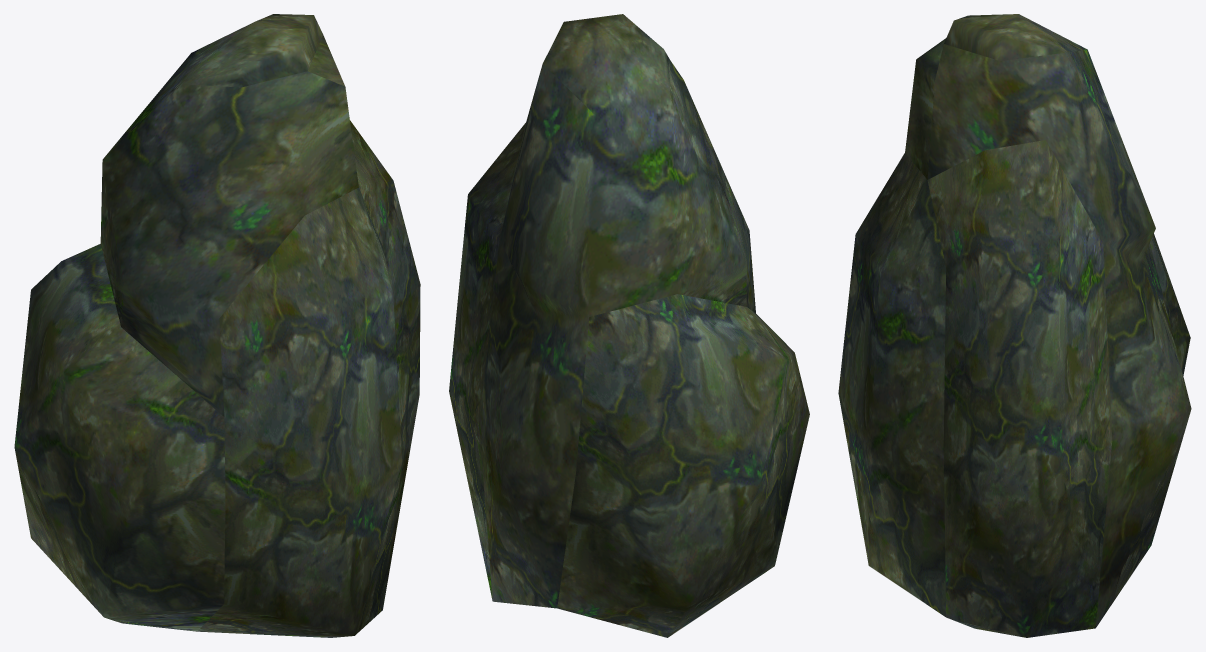
Rendered from 10104_Stone01.FBX.
The picture shows the model from 3 angles, left to right: view 1: azimuth 30°, elevation 25°; view 2: azimuth 150°, elevation 25°; view 3: azimuth 270°, elevation 25°; orthographic projection. The views are drawn at different scales.
Parts seen in each view (by area): view 1: Rock06; view 2: Rock06; view 3: Rock06.
Boxes of the visible parts, x1,y1,x2,y2 form: Rock06: (14, 14, 420, 637); Rock06: (449, 14, 809, 637); Rock06: (838, 14, 1191, 637).
Bounding box in the file's own units: 296 × 484 × 263.
